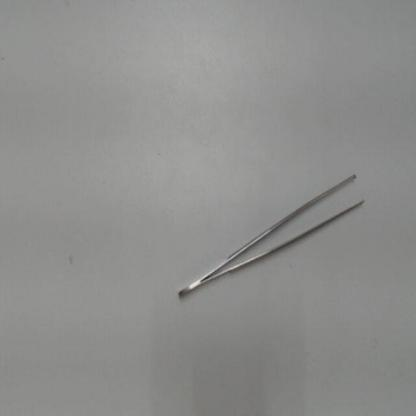Gillies Toothed Dissector: (174, 165, 376, 312)
